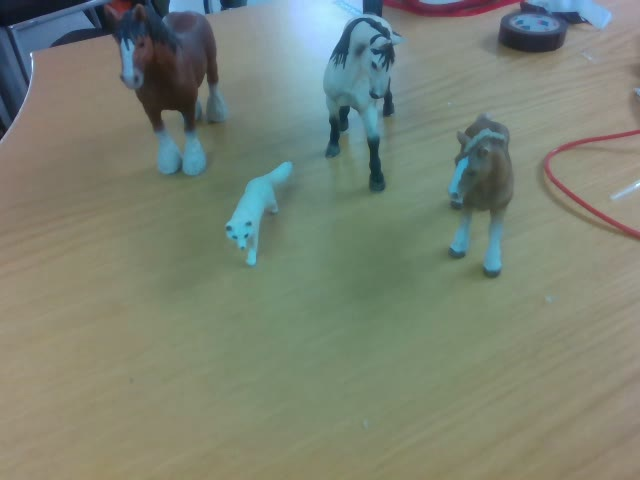toy: (103, 6, 226, 174), (320, 1, 409, 191), (447, 108, 513, 277), (224, 159, 295, 266)
